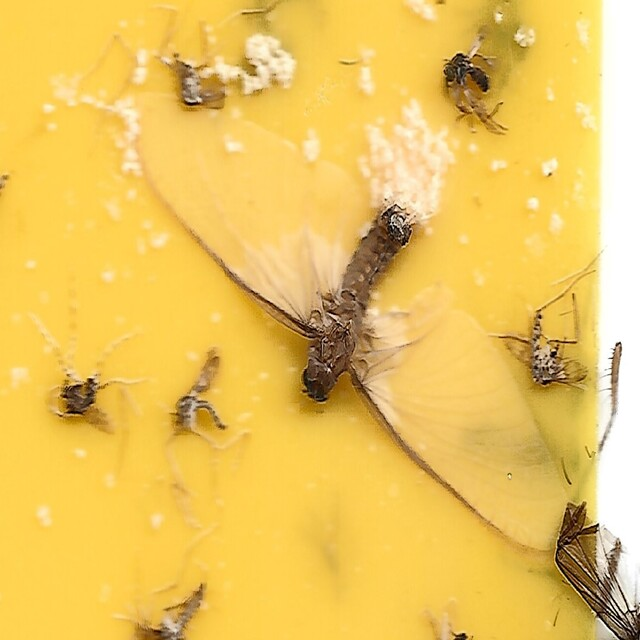Ephemeroptera: (139, 83, 562, 557)
Nematocera: (505, 306, 586, 391), (172, 346, 226, 434), (54, 366, 107, 426)
